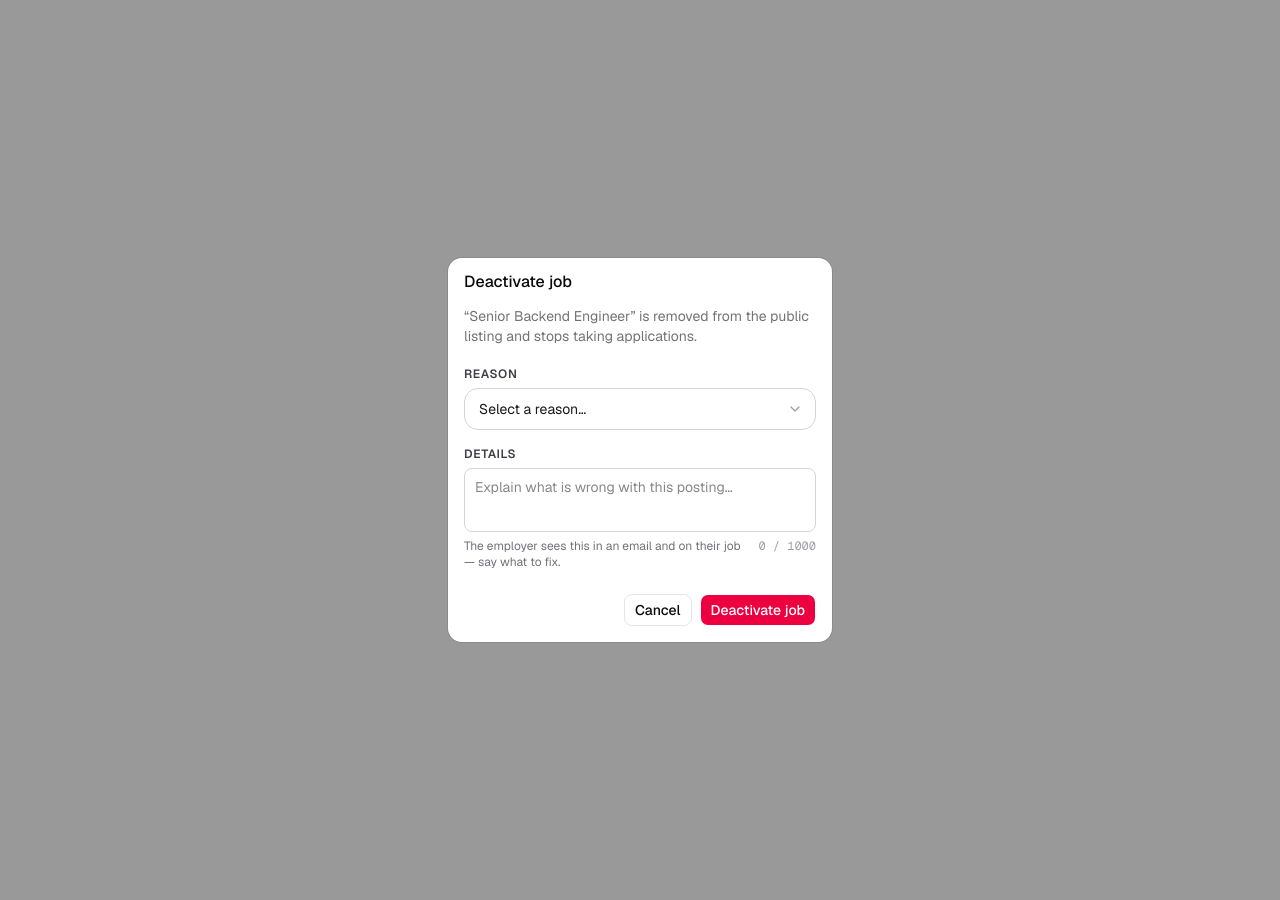
Test: DeactivateJobDialog › refuses to submit without a reason
Type "The salary in the title doesn't match the posting." into the text box labelled "Details".
click(640, 500); type("The salary in the title doesn't match the posting.")  # box [464, 468, 816, 532]
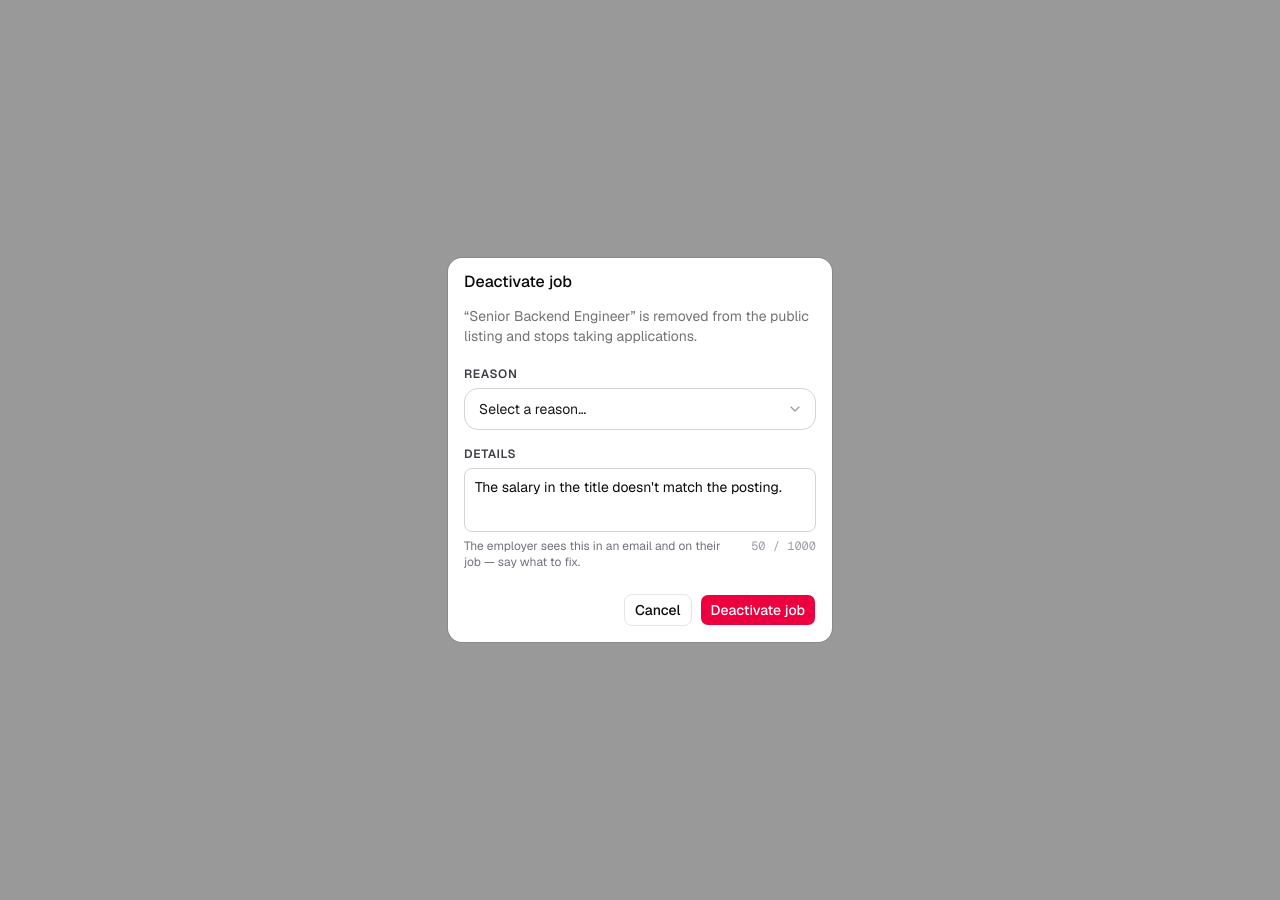
Click the button "Deactivate job".
click(758, 610)  # box [700, 594, 816, 626]
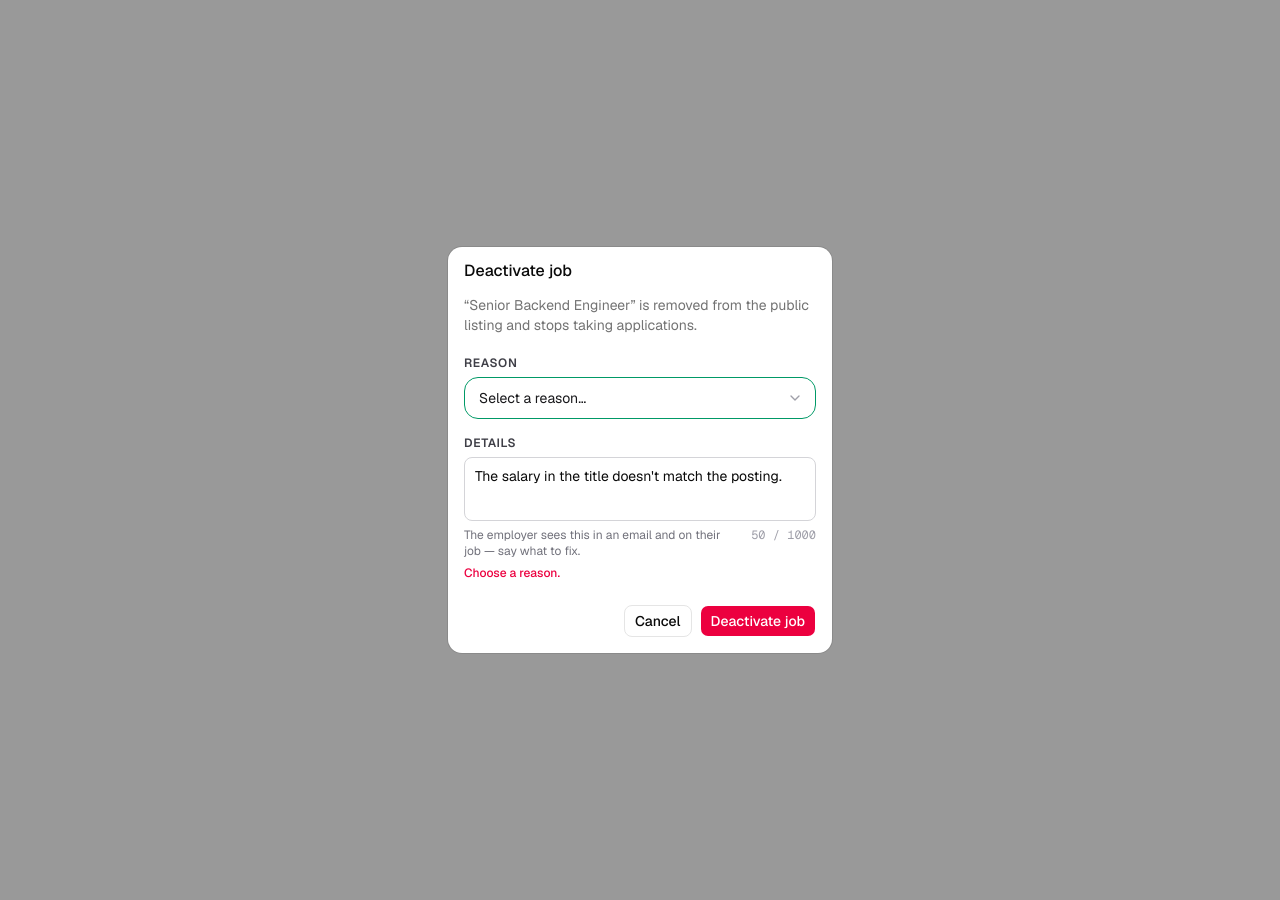
expect the message reads "Choose a reason.": met, box [464, 565, 560, 581]
